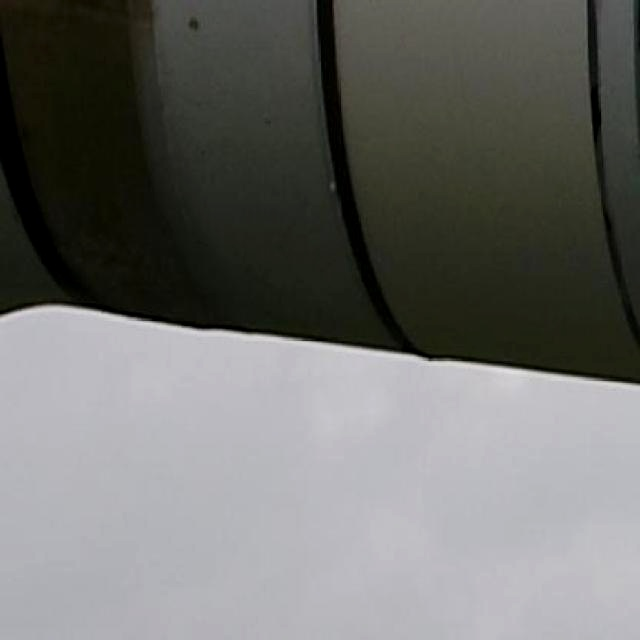Crack: (279, 193, 312, 256)
EROSION: (185, 15, 198, 31)
